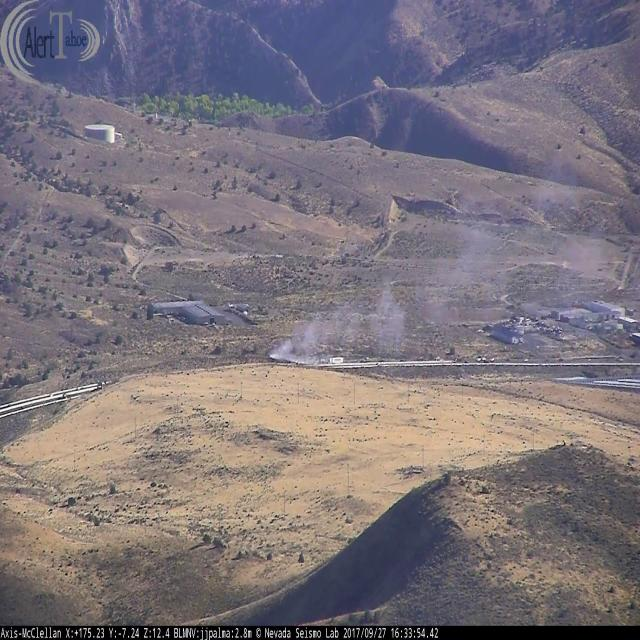smoke: (266, 140, 612, 362)
